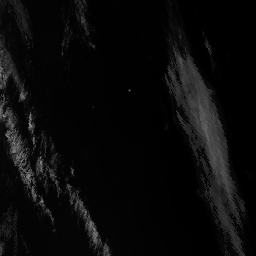Target: (127, 88, 131, 92)
